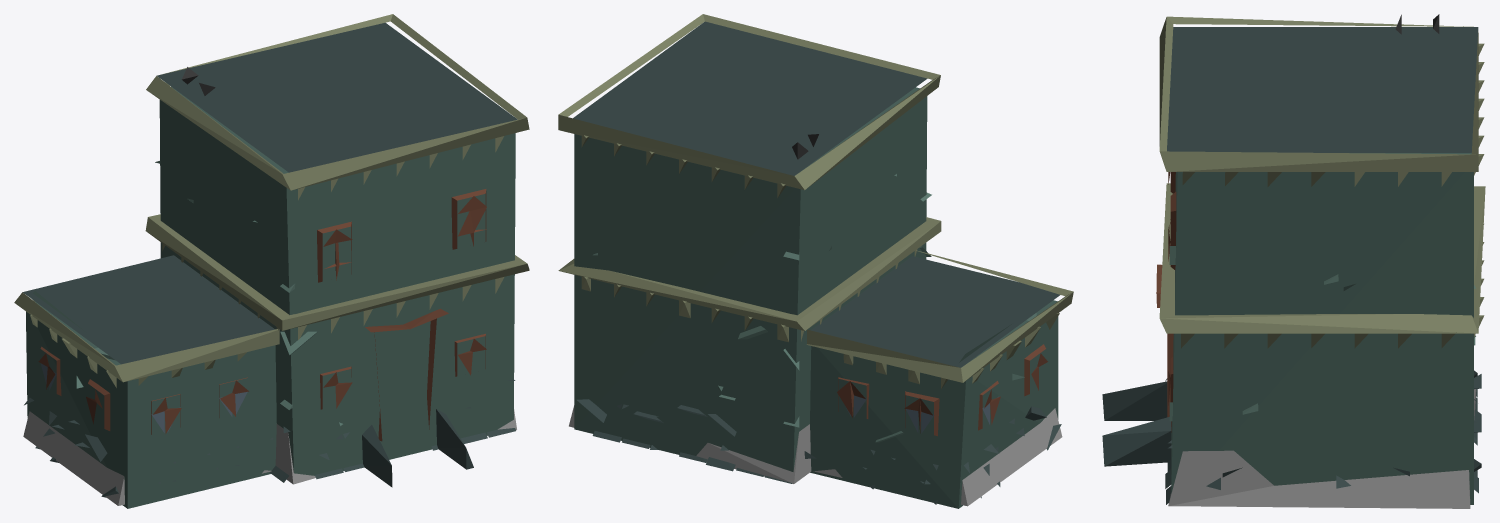
The model's file is 2Story_Sidehouse_lod.glb.
3 renders of one model, left to right at view 1: azimuth 30°, elevation 25°; view 2: azimuth 150°, elevation 25°; view 3: azimuth 270°, elevation 25°, orthographic. The views are drawn at different scales.
Visible parts, largest first — view 1: 2Story_Sidehouse_Mat; view 2: 2Story_Sidehouse_Mat; view 3: 2Story_Sidehouse_Mat.
Part boxes in pixels (left/top/right/bottom): 2Story_Sidehouse_Mat: left=14, top=14, right=529, bottom=508; 2Story_Sidehouse_Mat: left=558, top=14, right=1073, bottom=508; 2Story_Sidehouse_Mat: left=1102, top=14, right=1485, bottom=508.
Bounding box in the file's own units: 3.47 × 2.74 × 2.53.
